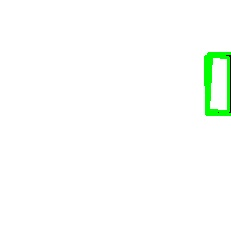line_segment: (205, 53, 231, 116), (208, 56, 230, 112)
